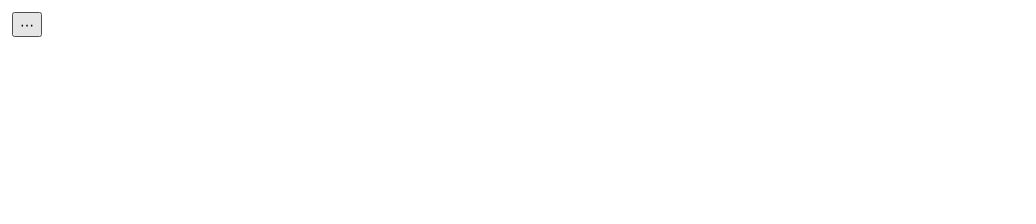
Test: UtilitiesMenu › R6: the Refresh item no longer tells the user F5 refreshes
The image size is (1036, 224).
Step 1. Click the button named "Utilities" → coordinates (27, 24), box [12,12,42,37]
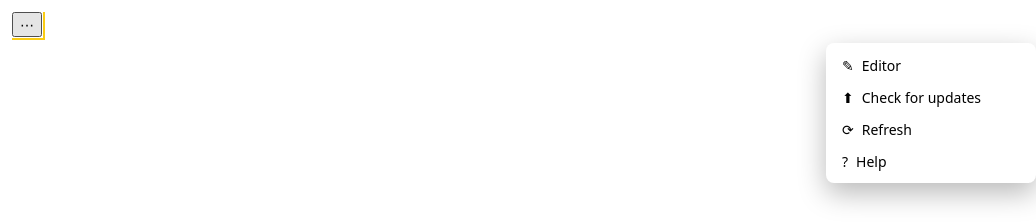
Expected: the menu item with aria-label "Refresh everything" does not show "F5", [832,113,1030,145]
Expected: the menu item with aria-label "Refresh everything" shows "Refresh", [832,113,1030,145]
